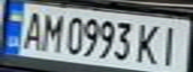0: (63, 13, 84, 55)
3: (112, 18, 136, 63)
9: (78, 16, 100, 58), (97, 17, 118, 61)
A: (18, 8, 48, 51)
I: (154, 22, 187, 68)
K: (133, 20, 163, 65)
M: (36, 10, 66, 53)
